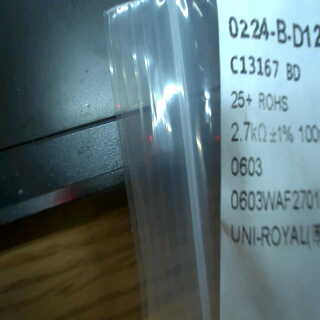2.7kR: (228, 112, 268, 150)
